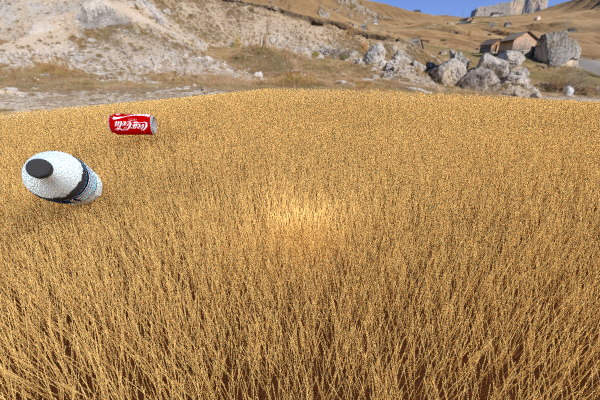bottle: (21, 151, 102, 205)
can: (522, 95, 579, 118), (107, 113, 156, 135)
